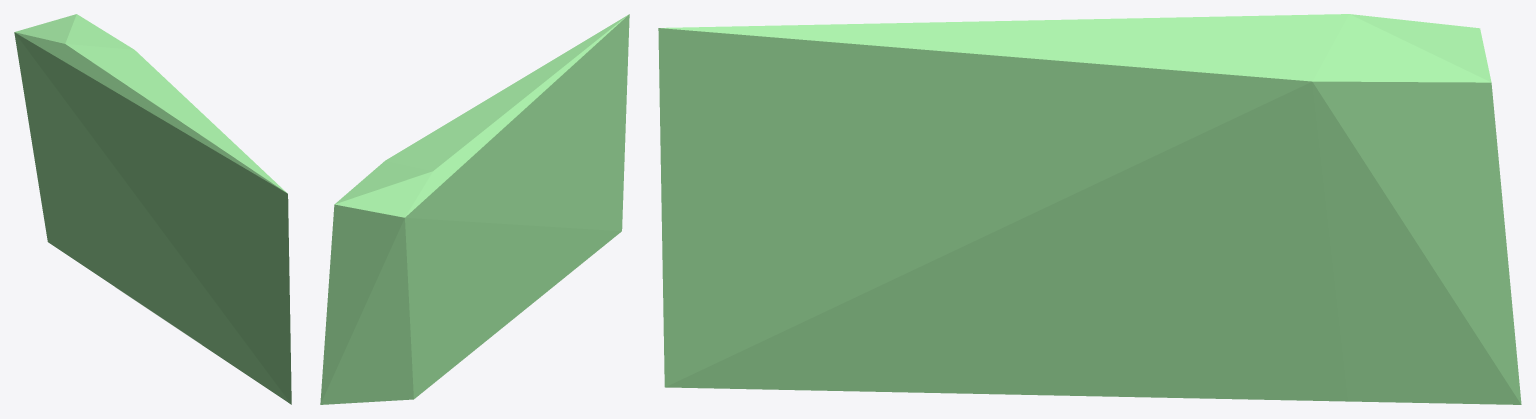
File: spatula_robot_base_coll_15.dae
3 renders of one model, left to right at view 1: azimuth 30°, elevation 25°; view 2: azimuth 150°, elevation 25°; view 3: azimuth 270°, elevation 25°, orthographic. The views are drawn at different scales.
Parts seen in each view (by area): view 1: Node_0x7fe6917b6bb0; view 2: Node_0x7fe6917b6bb0; view 3: Node_0x7fe6917b6bb0.
Part boxes in pixels (box(x1,y1,x2,y2)): Node_0x7fe6917b6bb0: box(14, 14, 291, 404); Node_0x7fe6917b6bb0: box(320, 14, 629, 404); Node_0x7fe6917b6bb0: box(658, 14, 1521, 404).
Bounding box in the file's own units: 0.00547 × 0.0159 × 0.0348.
